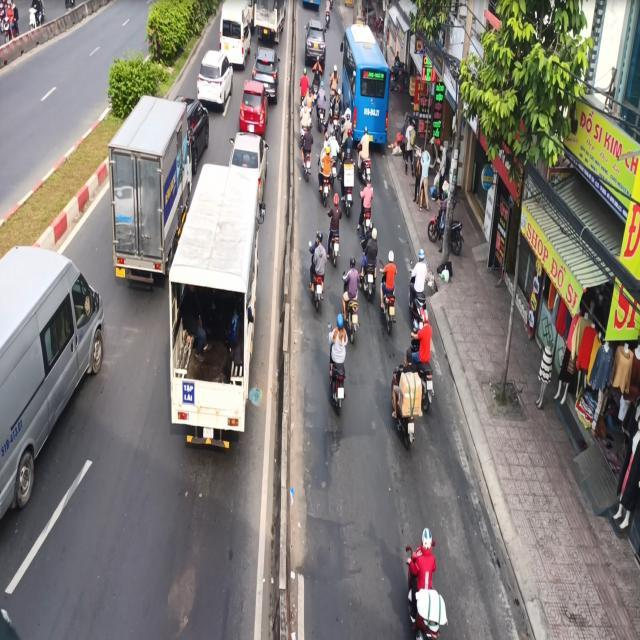bus: (339, 22, 391, 152)
car: (0, 244, 105, 522)
truck: (166, 161, 265, 450), (106, 94, 209, 288)
